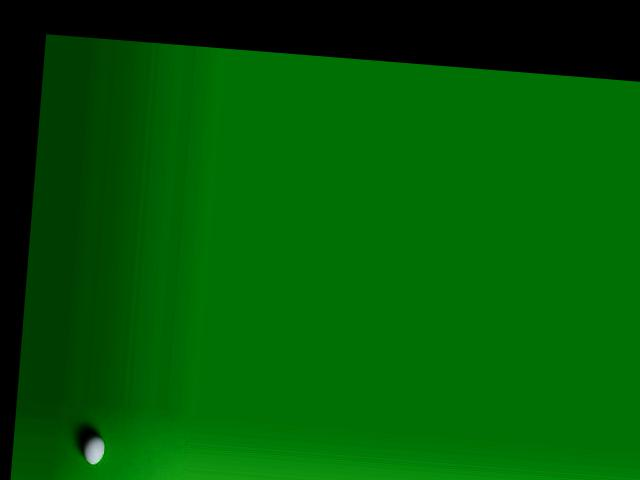egg: (81, 433, 105, 465)
